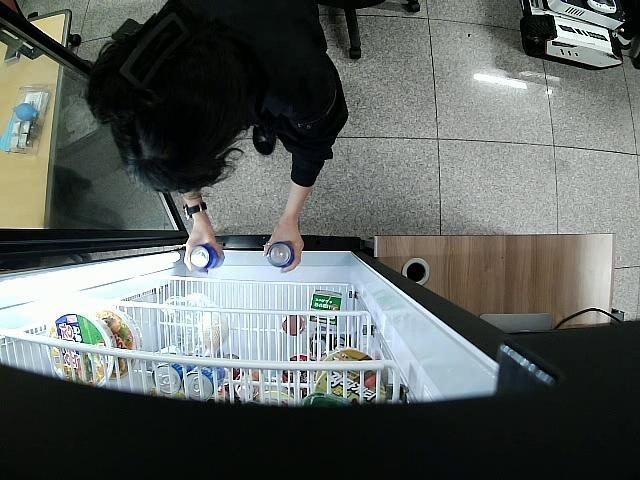13_pocariSweat: (188, 243, 224, 270), (266, 241, 294, 270)
